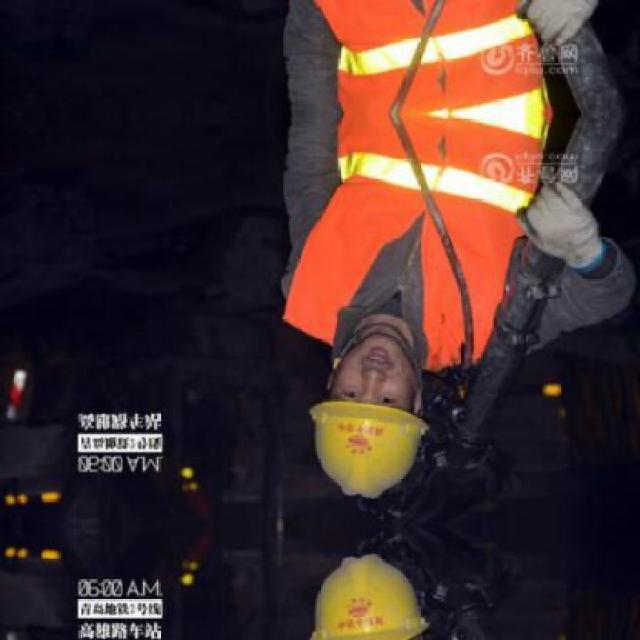safetyhelmet: (310, 368, 432, 504)
